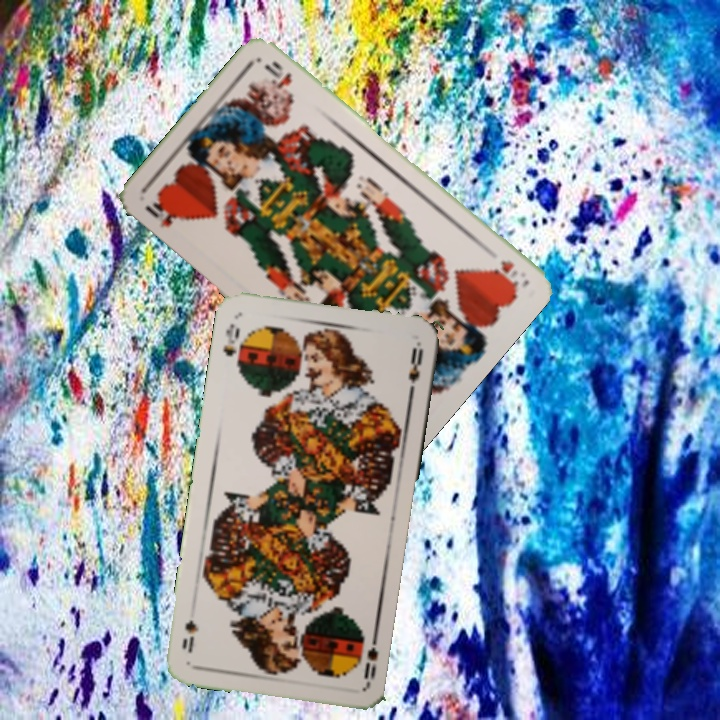HO: (141, 193, 185, 231), (491, 256, 522, 289)
SO: (219, 319, 246, 374), (359, 627, 381, 687)
